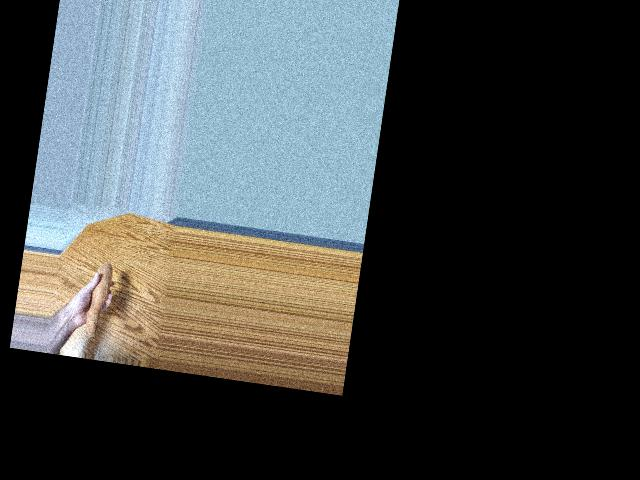sweet_potato: (79, 256, 114, 340)
